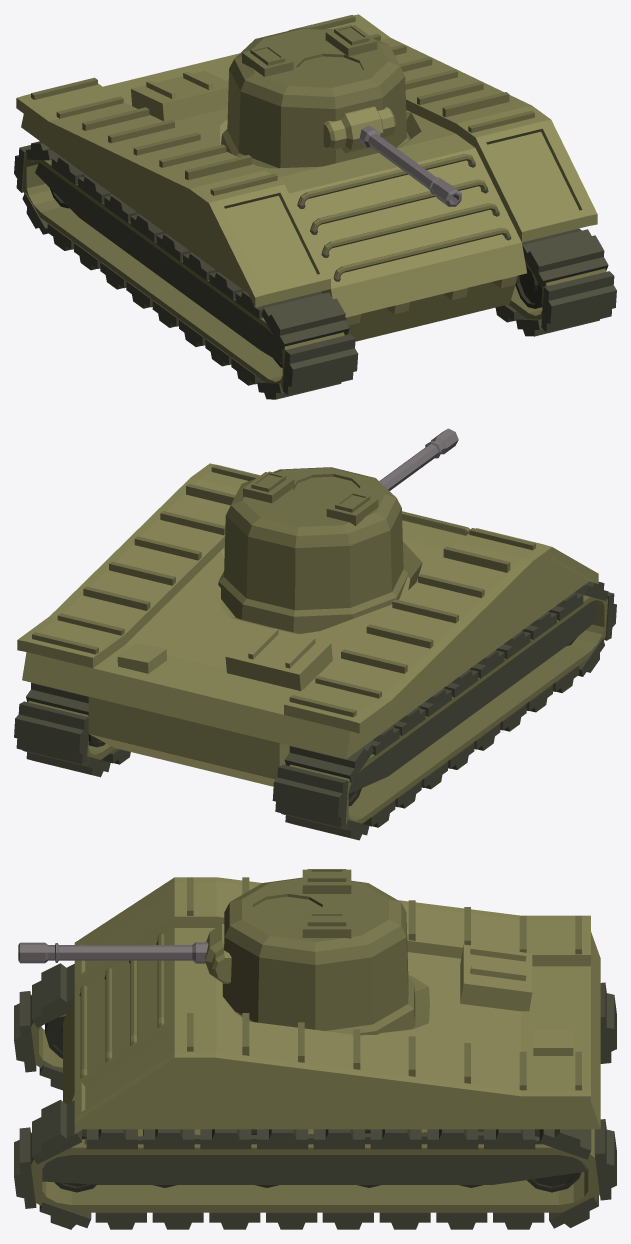
Rendered from tank.glb.
3 views of the same model, one above another, from view 1: azimuth 30°, elevation 25°; view 2: azimuth 150°, elevation 25°; view 3: azimuth 270°, elevation 25° (orthographic). The views are drawn at different scales.
Parts seen in each view (by area): view 1: model; view 2: model; view 3: model.
Part boxes in pixels (left/top/right/bottom): model: left=14, top=14, right=616, bottom=399; model: left=14, top=428, right=616, bottom=840; model: left=14, top=869, right=616, bottom=1229.
Size of the model in its own units: 4.47 by 2.86 by 6.3.
